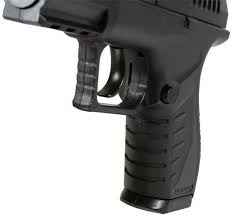gun: (3, 1, 231, 211)
